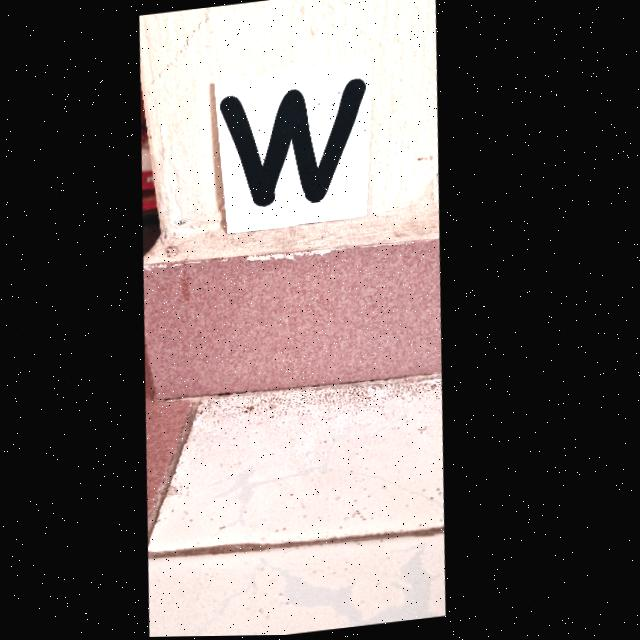W: (222, 80, 367, 208)
